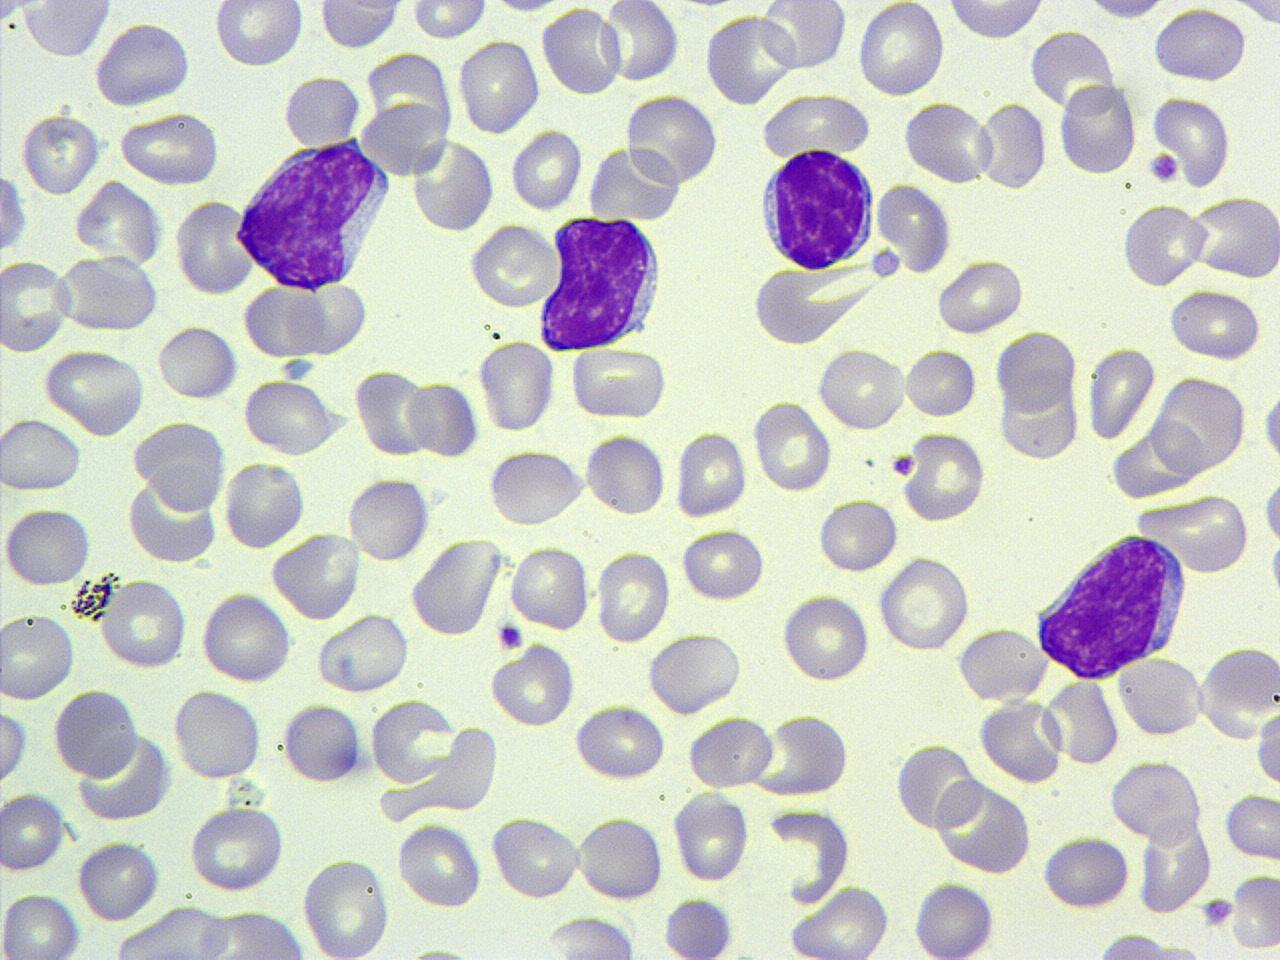Platelets: (489, 642, 578, 727), (1229, 885, 1280, 944), (1260, 388, 1280, 469), (1201, 892, 1237, 930), (406, 941, 472, 960), (1147, 151, 1181, 184), (496, 618, 526, 652), (279, 356, 316, 381), (1267, 538, 1280, 600), (890, 452, 916, 477)
RBC: (1149, 375, 1249, 476), (931, 776, 1032, 874), (1136, 492, 1252, 574), (878, 554, 974, 652), (411, 534, 502, 638), (302, 855, 393, 959), (43, 347, 148, 437), (623, 91, 721, 187), (127, 468, 224, 564), (130, 419, 228, 514), (855, 0, 946, 100), (199, 589, 293, 685), (188, 804, 287, 894), (92, 21, 193, 108), (456, 36, 542, 137), (172, 688, 264, 782), (754, 710, 852, 798), (1108, 758, 1206, 845), (172, 197, 258, 296), (645, 632, 745, 718), (814, 344, 908, 435), (703, 10, 792, 106), (409, 134, 496, 232), (780, 592, 872, 684), (1028, 27, 1120, 118), (53, 686, 140, 782), (99, 578, 188, 670), (468, 221, 560, 310), (1185, 193, 1279, 280), (484, 448, 586, 528), (53, 255, 160, 332), (270, 532, 361, 622), (894, 739, 982, 832), (902, 428, 986, 524), (786, 882, 893, 958), (1056, 80, 1138, 178), (0, 504, 94, 590), (117, 110, 222, 187), (344, 473, 433, 562), (978, 694, 1064, 786), (487, 641, 577, 729), (74, 179, 164, 266), (490, 814, 582, 899), (1149, 94, 1233, 188), (315, 612, 411, 694), (478, 337, 558, 434), (752, 398, 833, 495), (1135, 814, 1211, 916), (902, 99, 992, 186), (19, 106, 104, 198), (672, 786, 751, 884), (594, 546, 672, 644), (568, 345, 670, 421), (396, 820, 482, 910), (222, 458, 305, 550), (508, 542, 590, 635), (570, 702, 666, 782), (996, 372, 1082, 460), (1121, 199, 1205, 288), (760, 92, 874, 158), (955, 624, 1050, 704), (242, 376, 337, 456), (1152, 5, 1248, 84), (1115, 653, 1203, 738), (76, 836, 160, 925), (542, 4, 622, 98), (994, 328, 1078, 415), (578, 813, 662, 901), (361, 97, 449, 181), (1045, 672, 1121, 768), (354, 366, 432, 459), (1083, 343, 1157, 442), (584, 430, 666, 517), (1167, 286, 1263, 362), (876, 182, 952, 275), (0, 610, 77, 704), (280, 700, 366, 784), (588, 144, 682, 220), (910, 878, 998, 960), (1039, 832, 1131, 910), (975, 98, 1048, 193), (686, 712, 776, 790), (935, 258, 1025, 336), (680, 524, 766, 604), (0, 256, 70, 354), (673, 428, 748, 518), (816, 495, 900, 576), (602, 0, 680, 84), (156, 323, 240, 401), (241, 282, 324, 360), (0, 416, 83, 492), (211, 0, 304, 67), (511, 126, 583, 212), (405, 377, 479, 460), (758, 1, 848, 69), (282, 72, 362, 147), (290, 280, 371, 354), (15, 0, 113, 59), (0, 889, 81, 960), (0, 790, 68, 872), (904, 345, 978, 421), (660, 894, 734, 960), (317, 0, 405, 51), (945, 0, 1049, 41), (544, 914, 640, 958), (1229, 872, 1279, 950), (1224, 792, 1280, 860), (408, 0, 489, 41), (1, 157, 28, 257), (1254, 696, 1280, 793), (0, 702, 29, 787), (1079, 0, 1171, 23)
WBC: (231, 134, 398, 292), (1031, 528, 1191, 684), (534, 212, 668, 354), (754, 144, 878, 270), (132, 416, 228, 510), (129, 465, 221, 559), (1028, 29, 1120, 112), (1071, 930, 1227, 960)
